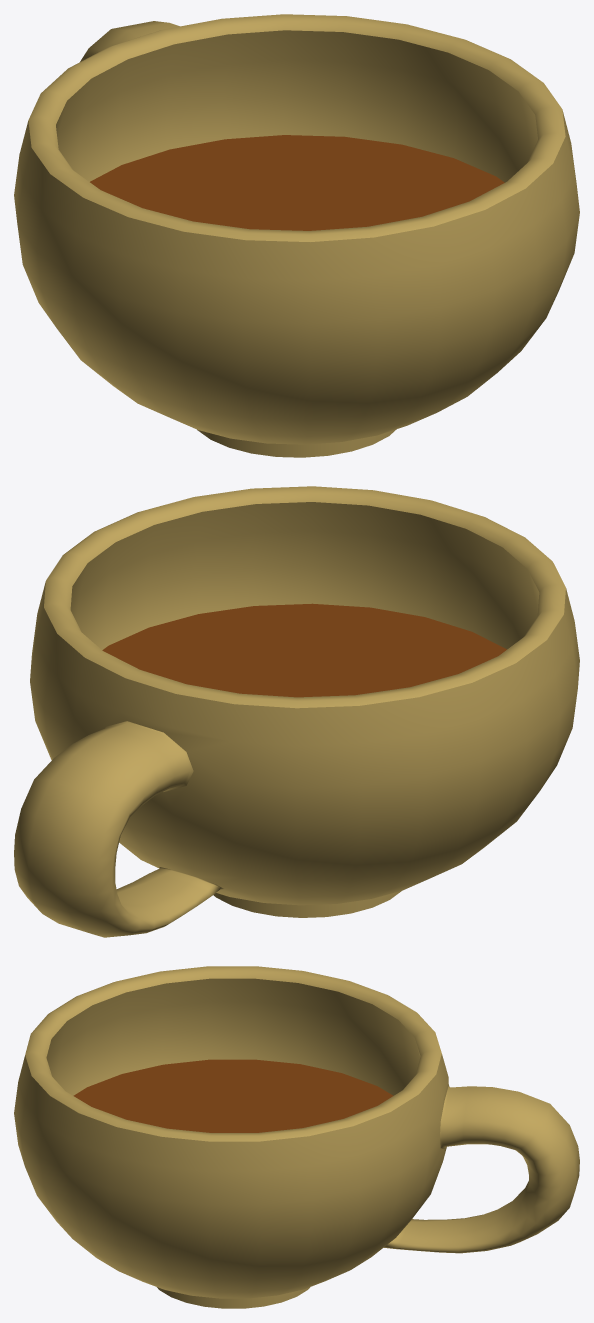
Rendered from Coffee_Cup.glb.
3 renders of one model, top to bottom at view 1: azimuth 30°, elevation 25°; view 2: azimuth 150°, elevation 25°; view 3: azimuth 270°, elevation 25°, orthographic. The views are drawn at different scales.
Parts seen in each view (by area): view 1: Cup; view 2: Cup; view 3: Cup.
Part boxes in pixels (x1=…): Cup: x1=14, y1=14, x2=579, y2=457; Cup: x1=14, y1=486, x2=579, y2=937; Cup: x1=14, y1=966, x2=579, y2=1308.
Size of the model in its own units: 0.1981 by 0.1114 by 0.257.
